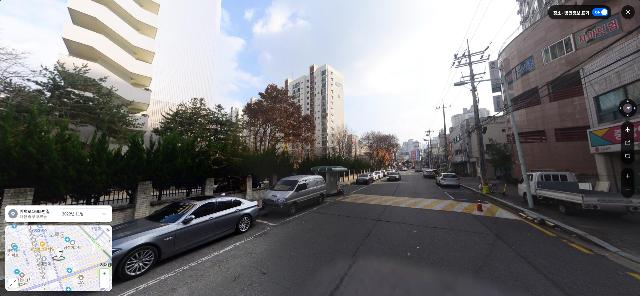other: (1, 48, 398, 205), (241, 84, 317, 152), (484, 137, 509, 181)
